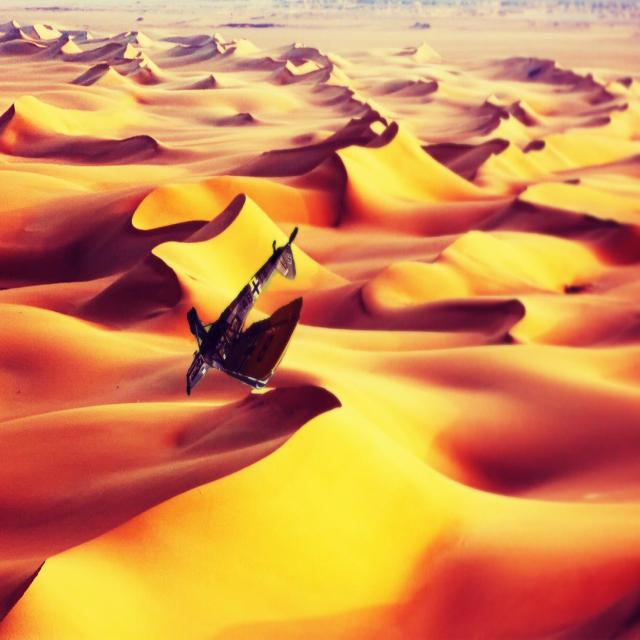airplane: (185, 225, 303, 396)
